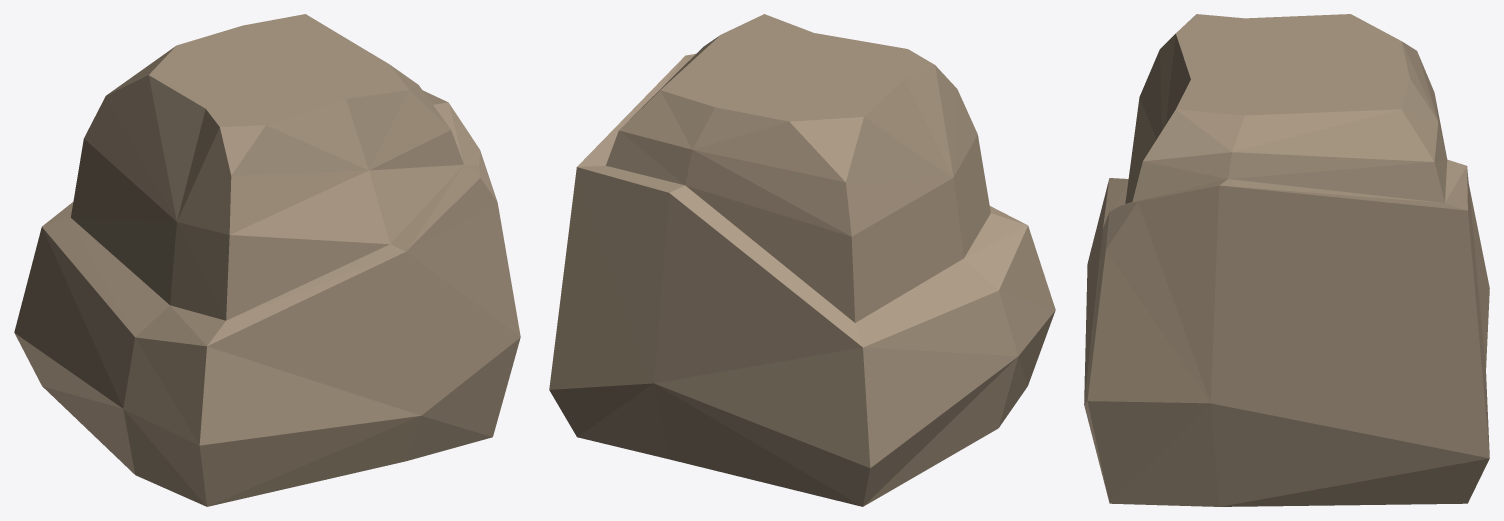
Rendered from SM_Env_Rock_07.fbx.
The picture shows the model from 3 angles, left to right: view 1: azimuth 30°, elevation 25°; view 2: azimuth 150°, elevation 25°; view 3: azimuth 270°, elevation 25°; orthographic projection. The views are drawn at different scales.
Visible parts, largest first — view 1: SM_Env_Rock_07; view 2: SM_Env_Rock_07; view 3: SM_Env_Rock_07.
Part boxes in pixels (left/top/right/bottom): SM_Env_Rock_07: left=14, top=14, right=520, bottom=506; SM_Env_Rock_07: left=549, top=14, right=1055, bottom=506; SM_Env_Rock_07: left=1084, top=14, right=1489, bottom=506.
Bounding box in the file's own units: 0.00577 × 0.0054 × 0.00542.
Materials: 1 (1 with a texture image).
